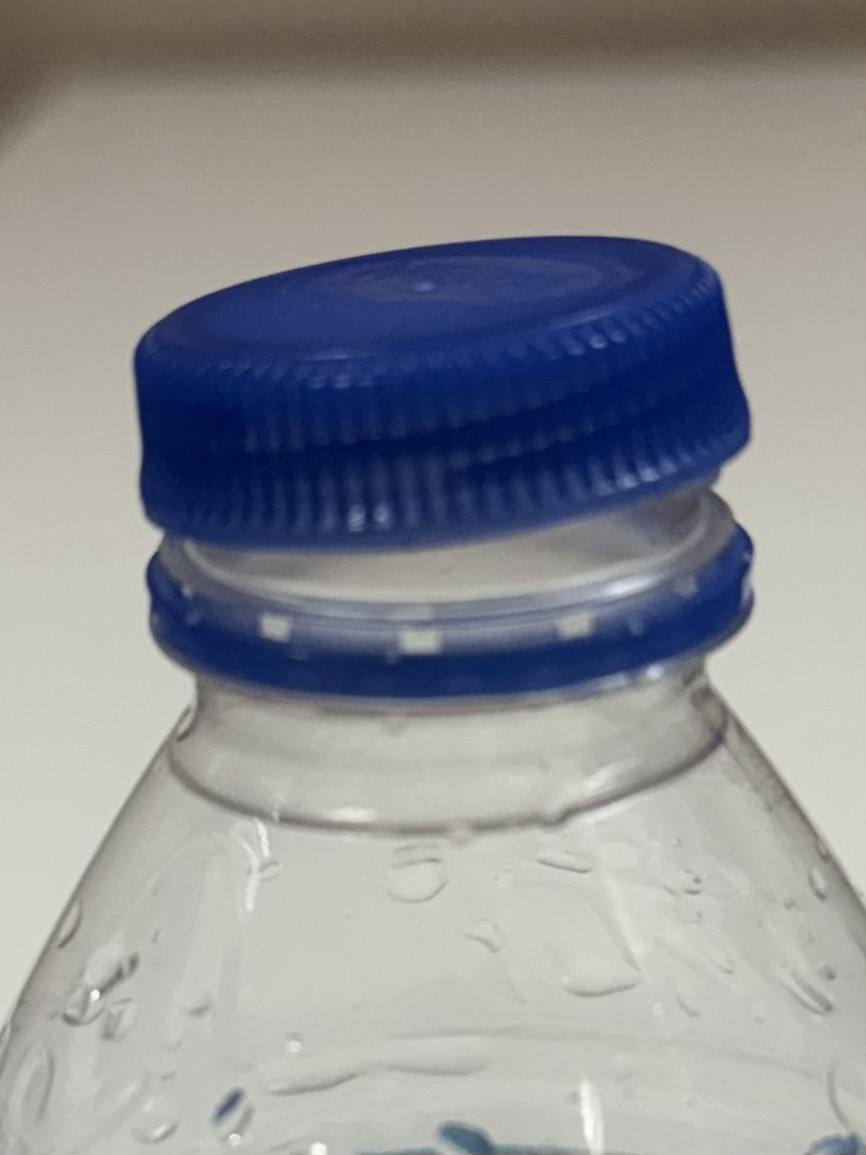half_cap: (121, 223, 768, 702)
